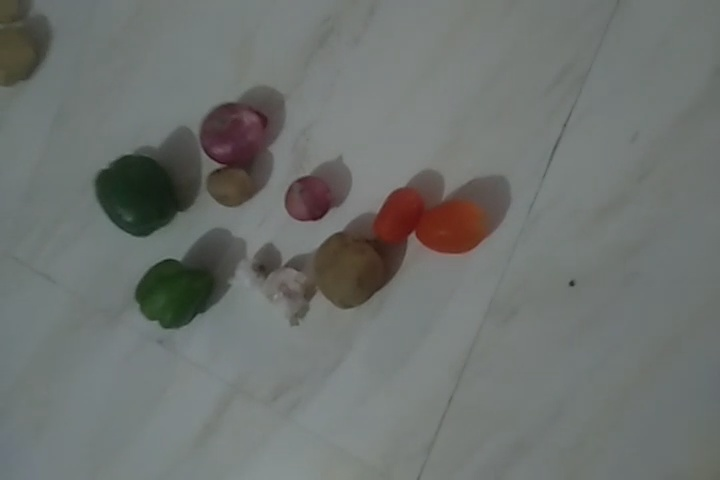capsicum: (96, 152, 173, 230), (135, 258, 199, 333)
garlic: (267, 264, 313, 329), (227, 256, 266, 294)
onion: (199, 102, 265, 162), (289, 176, 335, 224)
potato: (303, 228, 384, 315), (1, 26, 50, 85), (207, 164, 251, 209), (1, 1, 33, 28)
tomato: (420, 202, 494, 256), (378, 184, 425, 252)
